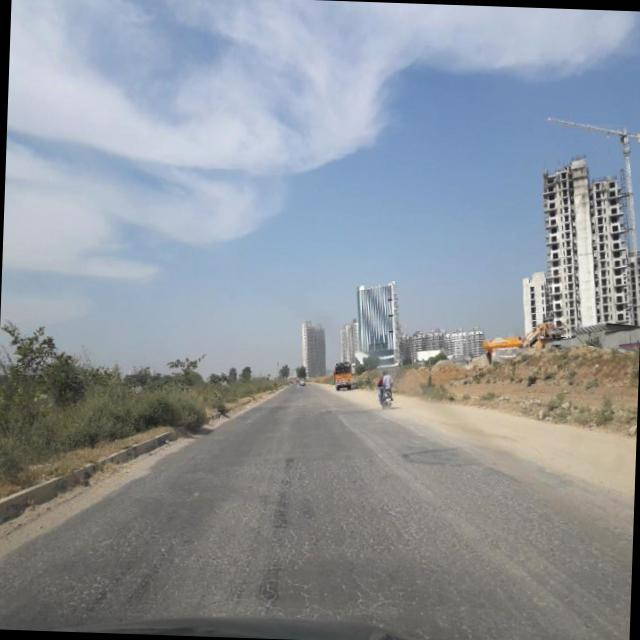crack: (0, 429, 635, 633)
